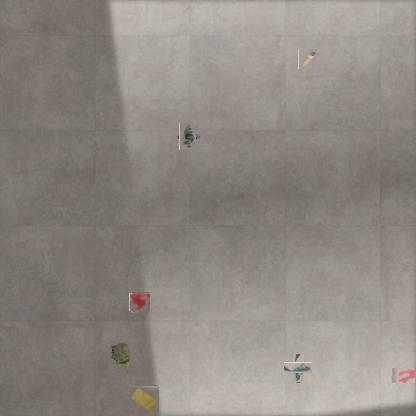dirty: (129, 385, 159, 415), (109, 340, 133, 374), (177, 125, 199, 148), (298, 50, 318, 69), (289, 358, 308, 378)
liquid: (392, 367, 416, 383), (130, 293, 150, 312)
